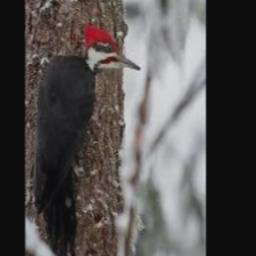Woodpecker: (38, 23, 140, 256)
